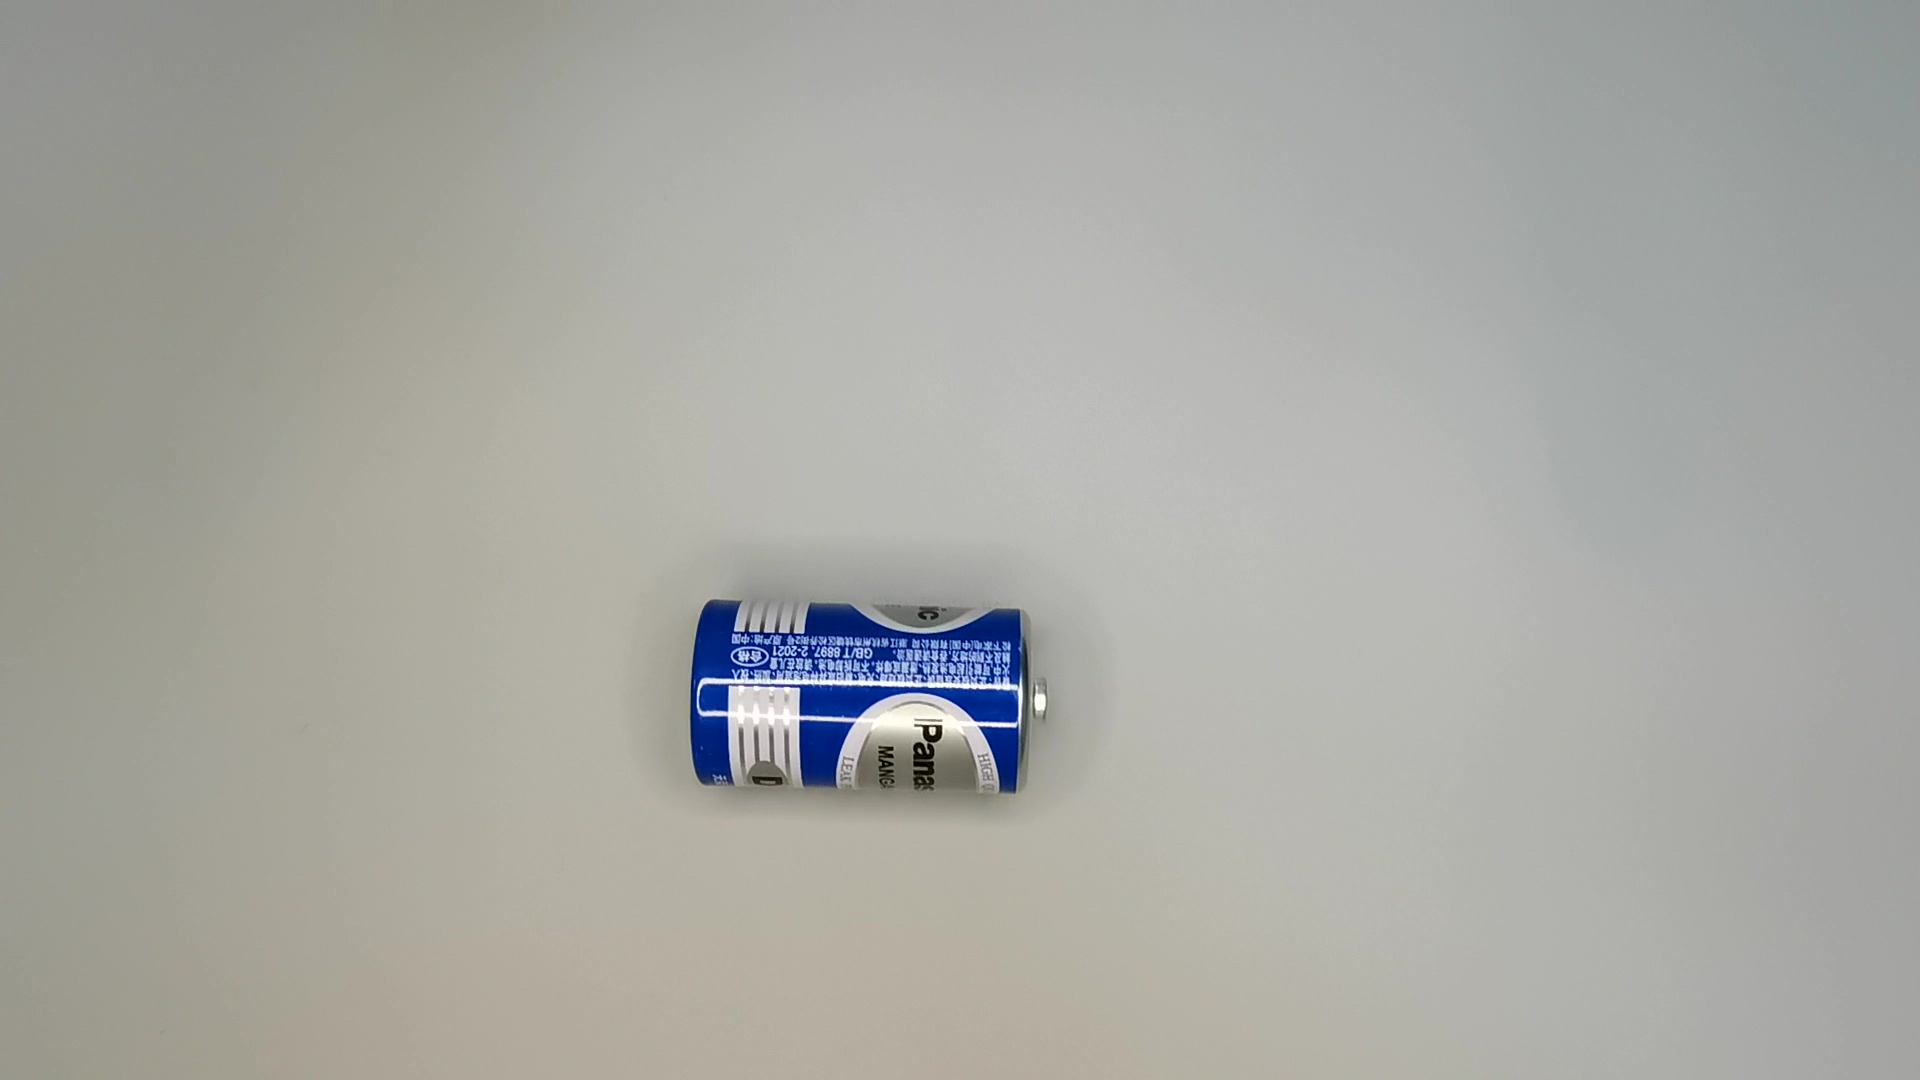battery: (680, 591, 1063, 808)
